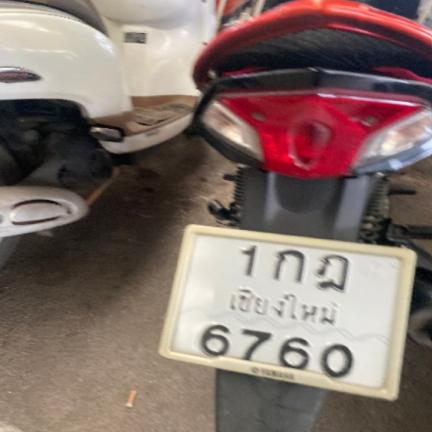0: (318, 342, 356, 379)
1: (235, 240, 261, 279)
6: (275, 334, 314, 370), (196, 323, 232, 356)
7: (235, 324, 273, 361)
A01: (273, 243, 305, 287)
A14: (317, 252, 351, 294)
CMI: (219, 282, 348, 332)
